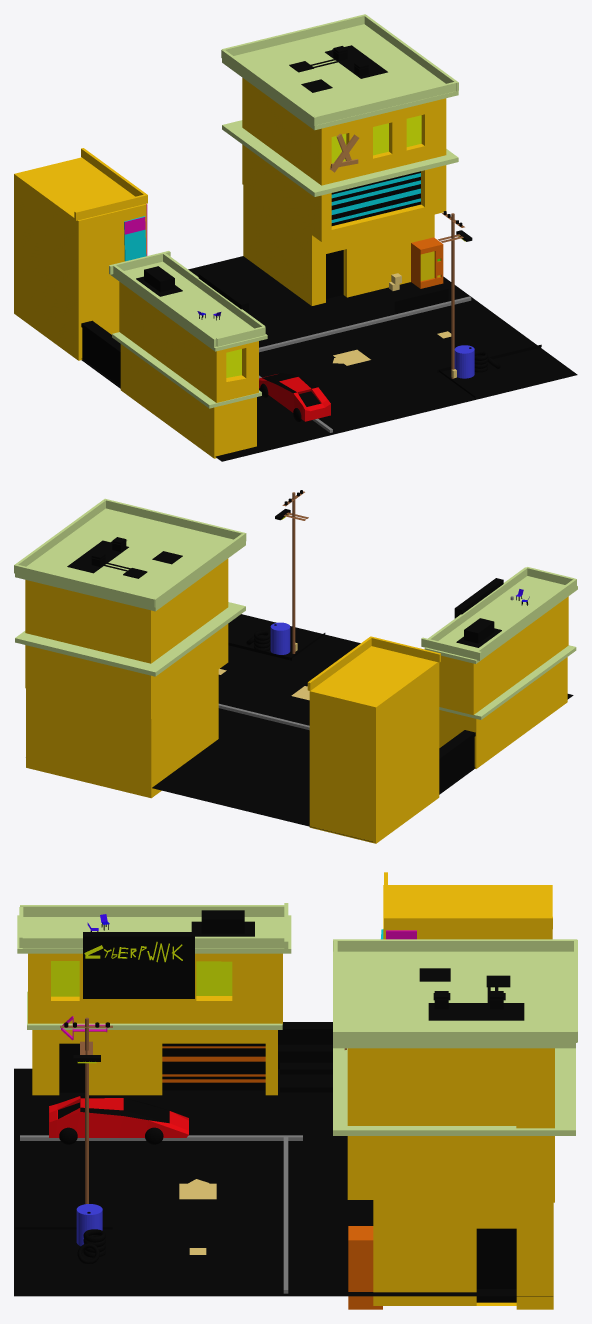
File: Street5.fbx
The picture shows the model from 3 angles, top to bottom: view 1: azimuth 30°, elevation 25°; view 2: azimuth 150°, elevation 25°; view 3: azimuth 270°, elevation 25°; orthographic projection. The views are drawn at different scales.
Parts seen in each view (by area): view 1: Plane, Cube.004, Cube.048, Cube.003, Cube.010, Cube.009, Cube.021, Cube.022, Cube.006, Cube.002, Cube.005, Cube.012 (+17 smaller); view 2: Cube.048, Plane, Cube.004, Cube.003, Cube.010, Cube.009, Cube.021, Cube.022, Cube.006, Cube.014, Cube.012, Cube.007 (+15 smaller); view 3: Plane, Cube.004, Cube.003, Cube.010, Cube.021, Cube.009, Cube.031, Cube.048, Cube.006, Cube.022, Cube.002, Cube.013 (+18 smaller).
Part boxes in pixels (bbox=[...]): Plane: bbox=[81, 256, 577, 461]; Cube.004: bbox=[242, 78, 446, 241]; Cube.048: bbox=[14, 157, 146, 360]; Cube.003: bbox=[243, 185, 434, 305]; Cube.010: bbox=[222, 24, 458, 130]; Cube.009: bbox=[119, 282, 258, 402]; Cube.021: bbox=[120, 344, 256, 458]; Cube.022: bbox=[111, 261, 267, 351]; Cube.006: bbox=[222, 120, 458, 196]; Cube.002: bbox=[259, 373, 330, 421]; Cube.005: bbox=[411, 237, 443, 288]; Cube.012: bbox=[314, 81, 457, 124]; Cube.048: bbox=[309, 646, 439, 843]; Plane: bbox=[152, 614, 573, 841]; Cube.004: bbox=[25, 558, 228, 718]; Cube.003: bbox=[26, 670, 218, 798]; Cube.010: bbox=[15, 508, 245, 611]; Cube.009: bbox=[439, 596, 568, 715]; Cube.021: bbox=[439, 657, 567, 768]; Cube.022: bbox=[424, 576, 577, 663]; Cube.006: bbox=[15, 602, 245, 676]; Cube.014: bbox=[14, 564, 154, 607]; Cube.012: bbox=[104, 498, 244, 539]; Cube.007: bbox=[439, 645, 576, 719]; Plane: bbox=[14, 1068, 552, 1296]; Cube.004: bbox=[347, 1048, 554, 1202]; Cube.003: bbox=[373, 1193, 553, 1309]; Cube.010: bbox=[333, 951, 575, 1048]; Cube.021: bbox=[32, 1030, 277, 1095]; Cube.009: bbox=[28, 953, 282, 1023]; Cube.031: bbox=[83, 932, 194, 998]; Cube.048: bbox=[383, 885, 552, 939]; Cube.006: bbox=[333, 1048, 575, 1135]; Cube.022: bbox=[17, 915, 291, 953]; Cube.002: bbox=[49, 1096, 188, 1137]; Cube.013: bbox=[333, 1030, 577, 1042].
Size of the model in its own units: 27380 by 15988 by 27764.
